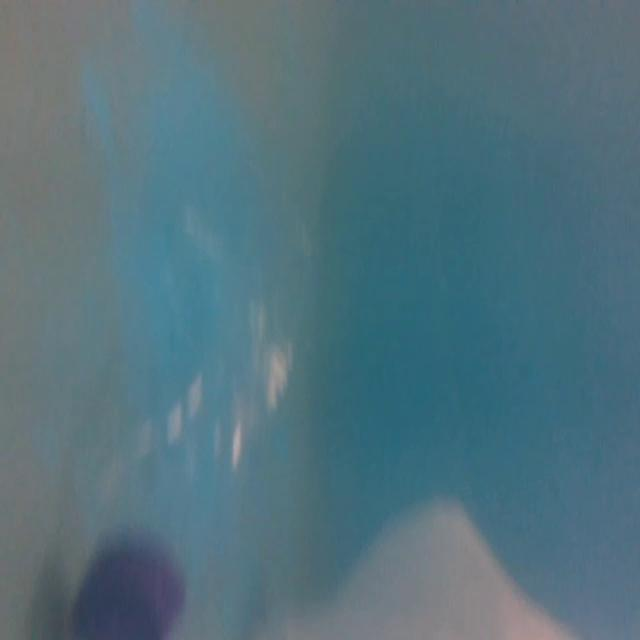plastic bottle: (67, 129, 336, 640)
